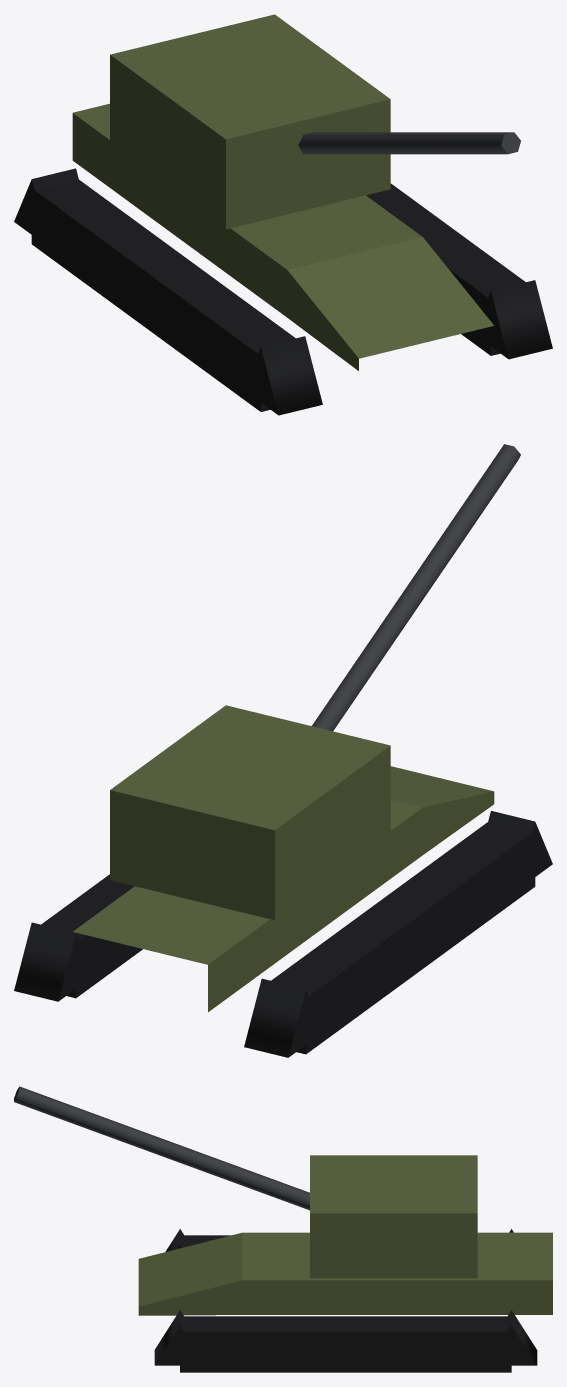
The model's file is veh_ground_sp_artillery_a06_lod2.glb.
The picture shows the model from 3 angles, top to bottom: view 1: azimuth 30°, elevation 25°; view 2: azimuth 150°, elevation 25°; view 3: azimuth 270°, elevation 25°; orthographic projection. The views are drawn at different scales.
Parts seen in each view (by area): view 1: turret, body, track_r, track_l; view 2: turret, track_r, body, track_l; view 3: turret, body, track_l, track_r.
Part boxes in pixels (bbox=[...]): turret: bbox=[110, 14, 520, 229]; body: bbox=[72, 103, 493, 370]; track_r: bbox=[14, 168, 322, 415]; track_l: bbox=[366, 183, 552, 359]; turret: bbox=[110, 444, 520, 920]; track_r: bbox=[244, 811, 552, 1057]; body: bbox=[73, 766, 494, 1012]; track_l: bbox=[14, 874, 142, 1001]; turret: bbox=[14, 1086, 477, 1278]; body: bbox=[138, 1232, 552, 1315]; track_l: bbox=[154, 1310, 537, 1372]; track_r: bbox=[165, 1229, 513, 1251].
Bounding box in the file's own units: 3.83 × 4.35 × 9.01.
